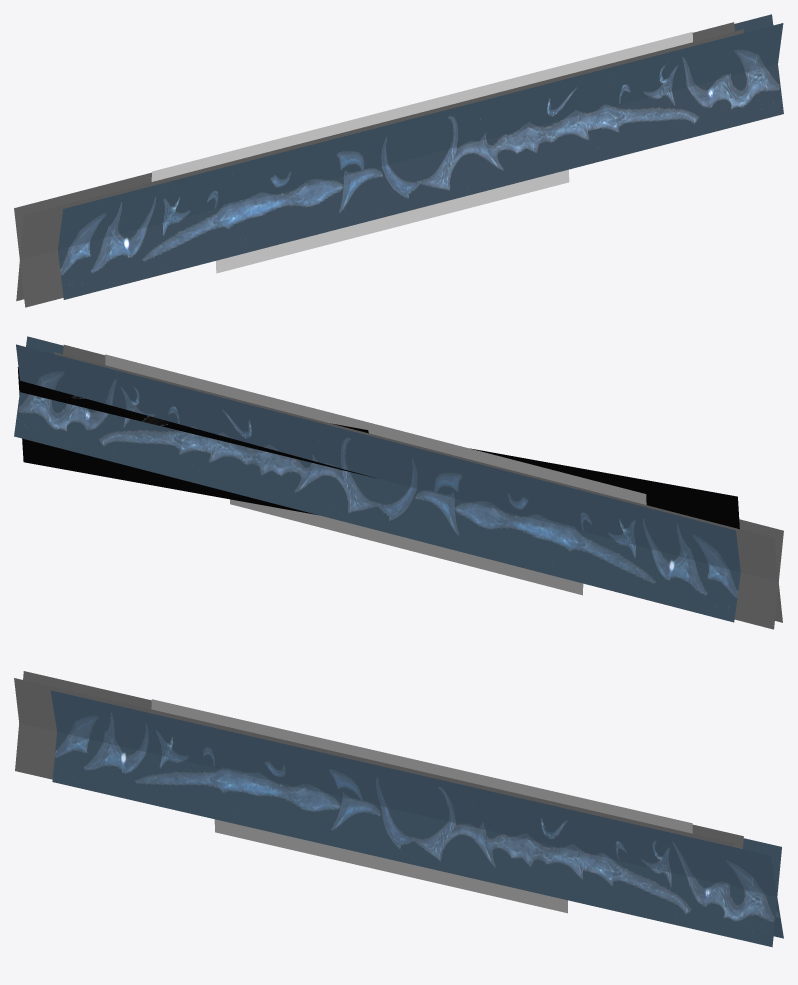
File: weapons.glb
The picture shows the model from 3 angles, top to bottom: view 1: azimuth 30°, elevation 25°; view 2: azimuth 150°, elevation 25°; view 3: azimuth 330°, elevation 25°; orthographic projection.
Visible parts, largest first — view 1: AquaBow.001, AquaBow.002, WoodLandBow, MoonBow.002, SunBow, MoonBow.001; view 2: AquaBow.002, AquaBow.001, OrcaBow, WoodLandBow, SunBow, MoonBow.001, MoonBow.002; view 3: AquaBow.001, AquaBow.002, WoodLandBow, MoonBow.002, SunBow, MoonBow.001.
Boxes of the visible parts, left/top/right/bottom form: AquaBow.001: left=58, top=14, right=783, bottom=299; AquaBow.002: left=58, top=23, right=783, bottom=249; WoodLandBow: left=151, top=32, right=692, bottom=181; MoonBow.002: left=16, top=29, right=743, bottom=301; SunBow: left=216, top=169, right=569, bottom=273; MoonBow.001: left=14, top=22, right=734, bottom=307; AquaBow.002: left=14, top=336, right=740, bottom=622; AquaBow.001: left=16, top=344, right=740, bottom=572; OrcaBow: left=17, top=367, right=739, bottom=529; WoodLandBow: left=105, top=354, right=646, bottom=504; SunBow: left=230, top=499, right=583, bottom=595; MoonBow.001: left=54, top=352, right=782, bottom=622; MoonBow.002: left=63, top=344, right=783, bottom=629; AquaBow.001: left=52, top=732, right=781, bottom=947; AquaBow.002: left=50, top=690, right=783, bottom=938; WoodLandBow: left=151, top=699, right=692, bottom=833; MoonBow.002: left=14, top=678, right=734, bottom=847; SunBow: left=214, top=819, right=567, bottom=913; MoonBow.001: left=15, top=671, right=743, bottom=848.
Bounding box in the file's own units: 2.11 × 0.3693 × 0.0582.
Materials: 5 (3 with a texture image).
